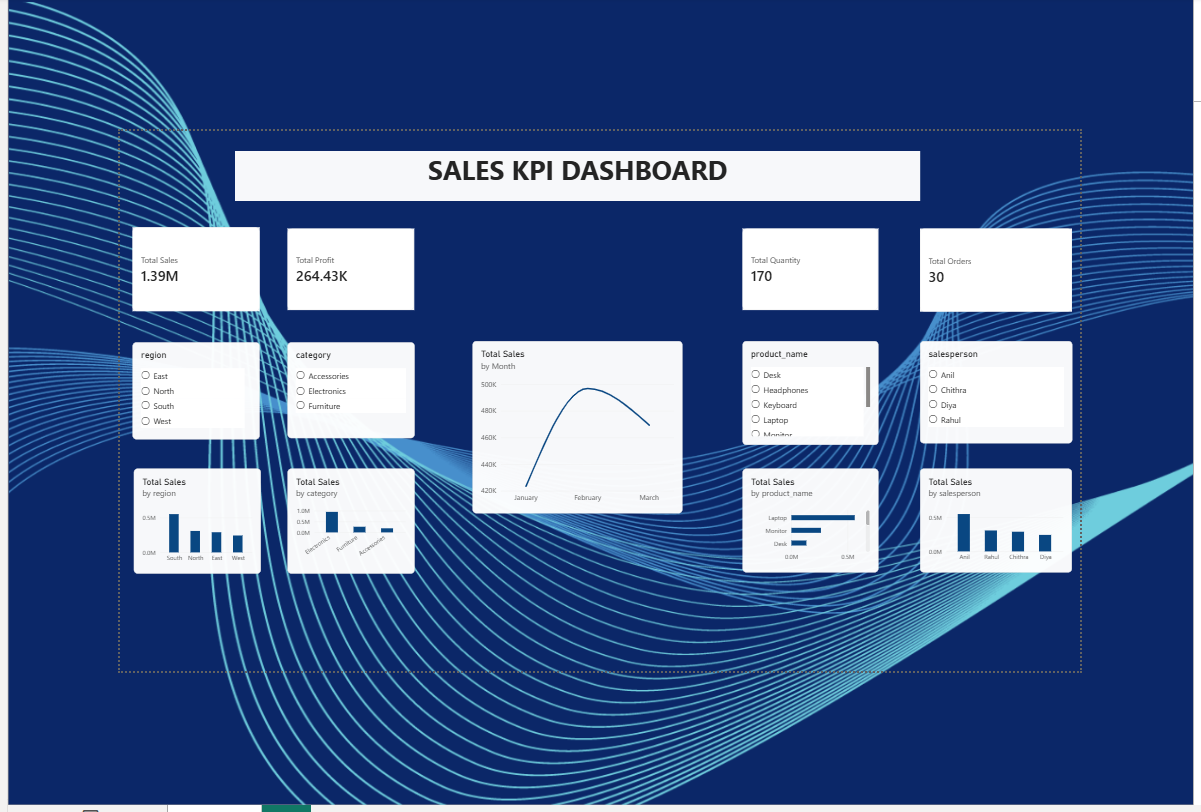

The dashboard page shown, as its layout file describes it:
{"tool":"powerbi","page":{"name":"Page 1","canvas":[1920,1080],"ordinal":0},"visuals":[{"type":"cardVisual","fields":{"Data":["sales_dashboard sales_data.Total Sales"]},"box":[26,192,254,168],"z":0},{"type":"cardVisual","fields":{"Data":["sales_dashboard sales_data.Total Profit"]},"box":[336,196,253.3,163.3],"z":1000},{"type":"cardVisual","fields":{"Data":["sales_dashboard sales_data.Total Quantity"]},"box":[1245,195,271.7,163.3],"z":2000},{"type":"cardVisual","fields":{"Data":["sales_dashboard sales_data.Total Orders"]},"box":[1600,195,304,166],"z":3000},{"type":"clusteredColumnChart","fields":{"Category":["sales_dashboard sales_data.region"],"Y":["sales_dashboard sales_data.Total Sales"]},"box":[28,674,254,210],"z":4000},{"type":"clusteredColumnChart","fields":{"Category":["sales_dashboard sales_data.category"],"Y":["sales_dashboard sales_data.Total Sales"]},"box":[336,674,254,210],"z":5000},{"type":"barChart","fields":{"Category":["sales_dashboard sales_data.product_name"],"Y":["sales_dashboard sales_data.Total Sales"]},"box":[1245,675,272,208],"z":6000},{"type":"clusteredColumnChart","fields":{"Category":["sales_dashboard sales_data.salesperson"],"Y":["sales_dashboard sales_data.Total Sales"]},"box":[1600,675,304,208],"z":7000},{"type":"lineChart","fields":{"Category":["sales_dashboard sales_data.order_date.Variation.Date Hierarchy.Month"],"Y":["sales_dashboard sales_data.Total Sales"]},"box":[705,420,420,345],"z":8000},{"type":"listSlicer","fields":{"Values":["sales_dashboard sales_data.region"]},"box":[26,422,254,194],"z":9000},{"type":"listSlicer","fields":{"Values":["sales_dashboard sales_data.category"]},"box":[336,422,254,192],"z":10000},{"type":"listSlicer","fields":{"Values":["sales_dashboard sales_data.product_name"]},"box":[1245,420,272,208],"z":11000},{"type":"listSlicer","fields":{"Values":["sales_dashboard sales_data.salesperson"]},"box":[1600,420,305,205],"z":12000},{"type":"textbox","box":[230,40,1370,100],"z":13000}]}

Visuals, with their boxes on the page's 1920x1080 design canvas (x1, y1, x2, y2). These are canvas units, not pixel positions in the 1201x812 screenshot, which may show the page scaled, cropped or inside an application window:
cardVisual - sales_dashboard sales_data.Total Sales: left=26, top=192, right=280, bottom=360
cardVisual - sales_dashboard sales_data.Total Profit: left=336, top=196, right=589, bottom=359
cardVisual - sales_dashboard sales_data.Total Quantity: left=1245, top=195, right=1517, bottom=358
cardVisual - sales_dashboard sales_data.Total Orders: left=1600, top=195, right=1904, bottom=361
clusteredColumnChart - sales_dashboard sales_data.region x sales_dashboard sales_data.Total Sales: left=28, top=674, right=282, bottom=884
clusteredColumnChart - sales_dashboard sales_data.category x sales_dashboard sales_data.Total Sales: left=336, top=674, right=590, bottom=884
barChart - sales_dashboard sales_data.product_name x sales_dashboard sales_data.Total Sales: left=1245, top=675, right=1517, bottom=883
clusteredColumnChart - sales_dashboard sales_data.salesperson x sales_dashboard sales_data.Total Sales: left=1600, top=675, right=1904, bottom=883
lineChart - sales_dashboard sales_data.order_date.Variation.Date Hierarchy.Month x sales_dashboard sales_data.Total Sales: left=705, top=420, right=1125, bottom=765
listSlicer - sales_dashboard sales_data.region: left=26, top=422, right=280, bottom=616
listSlicer - sales_dashboard sales_data.category: left=336, top=422, right=590, bottom=614
listSlicer - sales_dashboard sales_data.product_name: left=1245, top=420, right=1517, bottom=628
listSlicer - sales_dashboard sales_data.salesperson: left=1600, top=420, right=1905, bottom=625
textbox: left=230, top=40, right=1600, bottom=140
